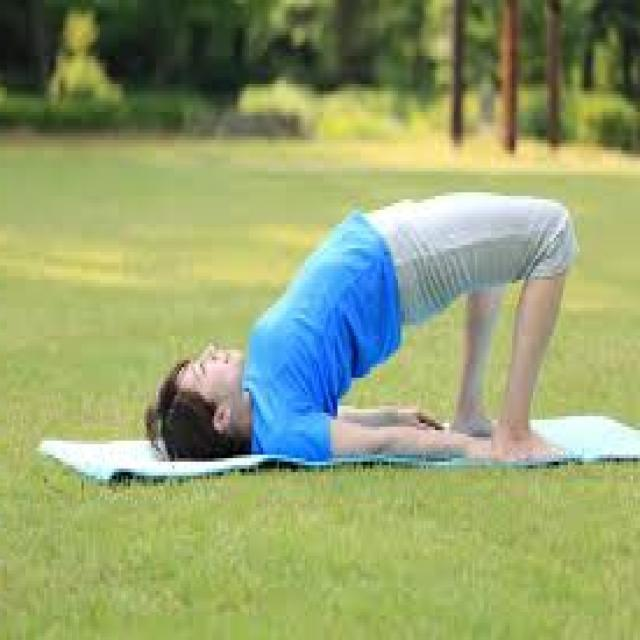yoga-pose bridge: (153, 185, 584, 482)
